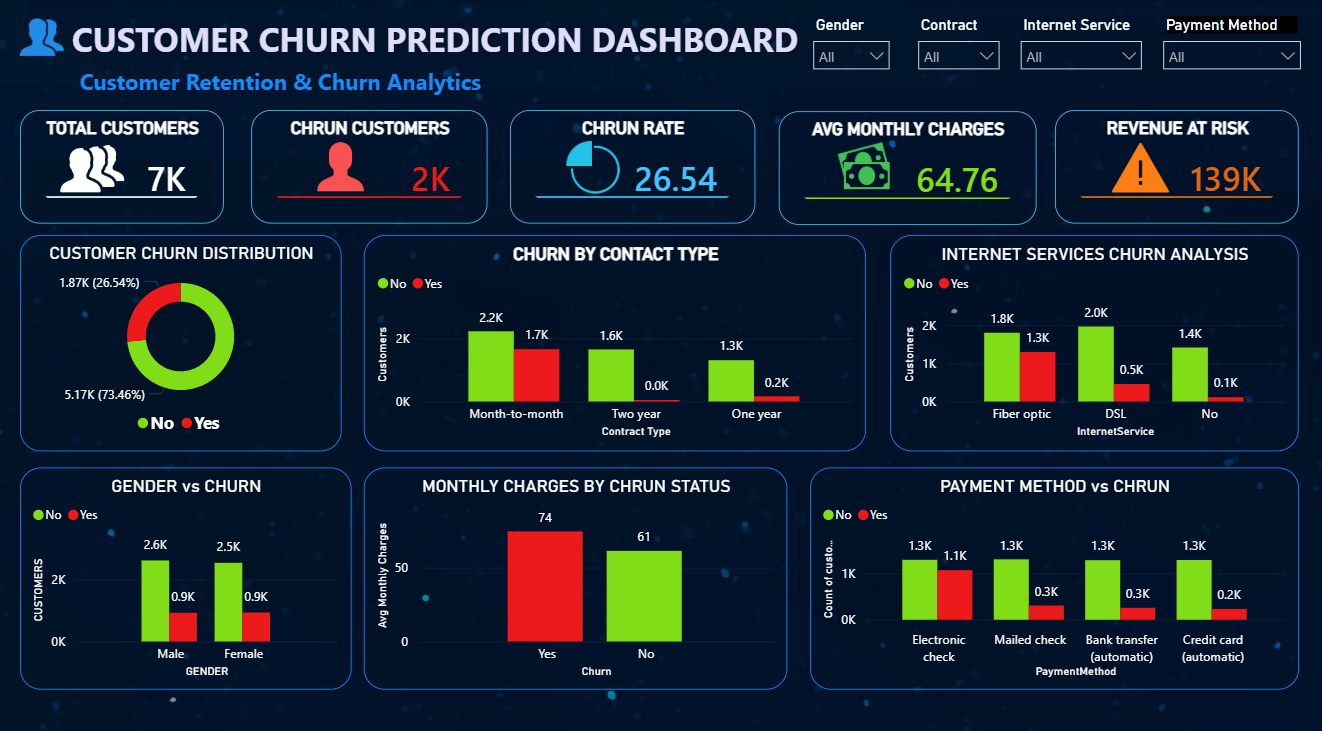

What the dashboard file says about the page in this screenshot:
{"tool":"powerbi","page":{"name":"Page 1","canvas":[1280,720],"ordinal":0},"visuals":[{"type":"textbox","box":[27.7,10.9,793.8,89.3],"z":0},{"type":"image","box":[19.3,10.9,42.2,48.3],"z":1000},{"type":"cardVisual","title":"TOTAL CUSTOMERS","fields":{"Data":["Telco_Customer_Churn.Total Customers"]},"box":[19.3,106.2,211.1,109.8],"z":2000},{"type":"cardVisual","title":"CHRUN CUSTOMERS","fields":{"Data":["Telco_Customer_Churn.Churn Customers"]},"box":[242.5,106.2,228,109.8],"z":3000},{"type":"cardVisual","title":"CHRUN RATE","fields":{"Data":["Telco_Customer_Churn.Churn Rate"]},"box":[492.2,106.2,236.5,109.8],"z":4000},{"type":"cardVisual","title":"AVG MONTHLY CHARGES","fields":{"Data":["Telco_Customer_Churn.Avg Monthly Charges"]},"box":[751.6,107.4,266.6,109.8],"z":5000},{"type":"cardVisual","title":"REVENUE AT RISK","fields":{"Data":["Telco_Customer_Churn.Revenue At Risk"]},"box":[1018.2,106.2,235.3,109.8],"z":6000},{"type":"donutChart","title":"CUSTOMER CHURN DISTRIBUTION","fields":{"Category":["Telco_Customer_Churn.Churn"],"Y":["CountNonNull(Telco_Customer_Churn.customerID)"]},"box":[19.3,226.8,310.1,208.7],"z":7000},{"type":"clusteredColumnChart","title":"CHURN BY CONTACT TYPE","fields":{"Category":["Telco_Customer_Churn.Contract"],"Series":["Telco_Customer_Churn.Churn"],"Y":["CountNonNull(Telco_Customer_Churn.customerID)"]},"box":[351.1,226.8,485,208.7],"z":8000},{"type":"clusteredColumnChart","title":"INTERNET SERVICES CHURN ANALYSIS","fields":{"Category":["Telco_Customer_Churn.InternetService"],"Y":["CountNonNull(Telco_Customer_Churn.customerID)"],"Series":["Telco_Customer_Churn.Churn"]},"box":[859,226.8,394.5,208.7],"z":9000},{"type":"clusteredColumnChart","title":"GENDER vs CHURN","fields":{"Category":["Telco_Customer_Churn.gender"],"Y":["Count(Telco_Customer_Churn.customerID)"],"Series":["Telco_Customer_Churn.Churn"]},"box":[19.3,451.2,319.7,214.7],"z":10000},{"type":"clusteredColumnChart","title":"MONTHLY CHARGES BY CHRUN STATUS","fields":{"Category":["Telco_Customer_Churn.Churn"],"Y":["Telco_Customer_Churn.Avg Monthly Charges"]},"box":[351.1,451.2,409,214.7],"z":11000},{"type":"clusteredColumnChart","title":"PAYMENT METHOD vs CHRUN","fields":{"Category":["Telco_Customer_Churn.PaymentMethod"],"Y":["CountNonNull(Telco_Customer_Churn.customerID)"],"Series":["Telco_Customer_Churn.Churn"]},"box":[781.8,451.2,471.7,214.7],"z":12000},{"type":"slicer","fields":{"Values":["Telco_Customer_Churn.gender"]},"box":[774.5,10.9,94.1,70],"z":13000},{"type":"slicer","fields":{"Values":["Telco_Customer_Churn.Contract"]},"box":[875.9,10.9,98.9,70],"z":14000},{"type":"slicer","fields":{"Values":["Telco_Customer_Churn.InternetService"]},"box":[974.8,10.9,137.5,70],"z":15000},{"type":"slicer","fields":{"Values":["Telco_Customer_Churn.PaymentMethod"]},"box":[1112.3,10.9,153.2,57.9],"z":16000},{"type":"image","box":[50.7,127.9,77.2,67.6],"z":17000},{"type":"image","box":[275.1,133.9,107.4,55.5],"z":18000},{"type":"image","box":[526,133.9,92.9,55.5],"z":19000},{"type":"image","box":[808.3,133.9,50.7,55.5],"z":20000},{"type":"image","box":[1043.6,133.9,114.6,55.5],"z":21000}]}

Visuals, with their boxes in screenshot pixels (x1, y1, x2, y2), scaled from the page's 1280x720 canvas onto the 1322x731 screenshot:
textbox: Rect(29, 11, 848, 102)
image: Rect(20, 11, 64, 60)
"TOTAL CUSTOMERS" cardVisual: Rect(20, 108, 238, 219)
"CHRUN CUSTOMERS" cardVisual: Rect(250, 108, 486, 219)
"CHRUN RATE" cardVisual: Rect(508, 108, 753, 219)
"AVG MONTHLY CHARGES" cardVisual: Rect(776, 109, 1052, 221)
"REVENUE AT RISK" cardVisual: Rect(1052, 108, 1295, 219)
"CUSTOMER CHURN DISTRIBUTION" donutChart: Rect(20, 230, 340, 442)
"CHURN BY CONTACT TYPE" clusteredColumnChart: Rect(363, 230, 864, 442)
"INTERNET SERVICES CHURN ANALYSIS" clusteredColumnChart: Rect(887, 230, 1295, 442)
"GENDER vs CHURN" clusteredColumnChart: Rect(20, 458, 350, 676)
"MONTHLY CHARGES BY CHRUN STATUS" clusteredColumnChart: Rect(363, 458, 785, 676)
"PAYMENT METHOD vs CHRUN" clusteredColumnChart: Rect(807, 458, 1295, 676)
slicer - Telco_Customer_Churn.gender: Rect(800, 11, 897, 82)
slicer - Telco_Customer_Churn.Contract: Rect(905, 11, 1007, 82)
slicer - Telco_Customer_Churn.InternetService: Rect(1007, 11, 1149, 82)
slicer - Telco_Customer_Churn.PaymentMethod: Rect(1149, 11, 1307, 70)
image: Rect(52, 130, 132, 198)
image: Rect(284, 136, 395, 192)
image: Rect(543, 136, 639, 192)
image: Rect(835, 136, 887, 192)
image: Rect(1078, 136, 1196, 192)
